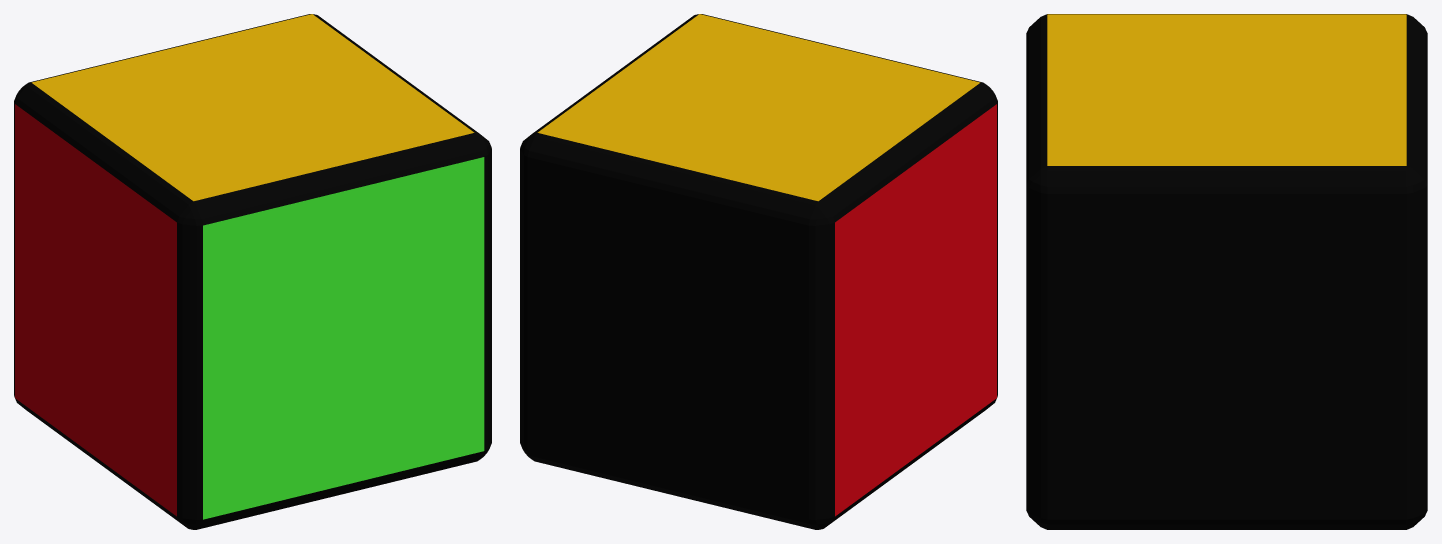
Rendered from GRY.glb.
3 renders of one model, left to right at view 1: azimuth 30°, elevation 25°; view 2: azimuth 150°, elevation 25°; view 3: azimuth 270°, elevation 25°, orthographic. The views are drawn at different scales.
Visible parts, largest first — view 1: Cube; view 2: Cube; view 3: Cube.
Boxes of the visible parts, bbox=[...] form: Cube: bbox=[14, 14, 491, 529]; Cube: bbox=[520, 14, 997, 529]; Cube: bbox=[1026, 14, 1427, 529].
Size of the model in its own units: 2 by 2 by 2.
